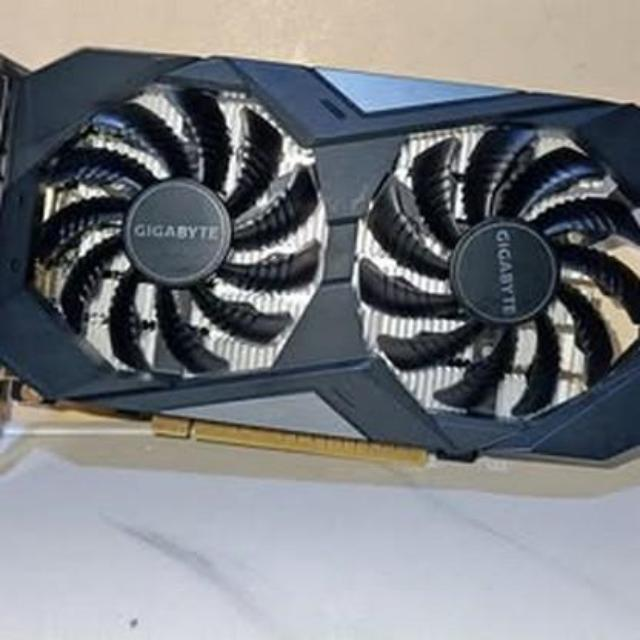GPU: (0, 40, 640, 498)
